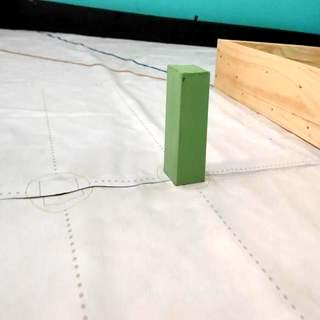greenbox: (163, 64, 210, 188)
